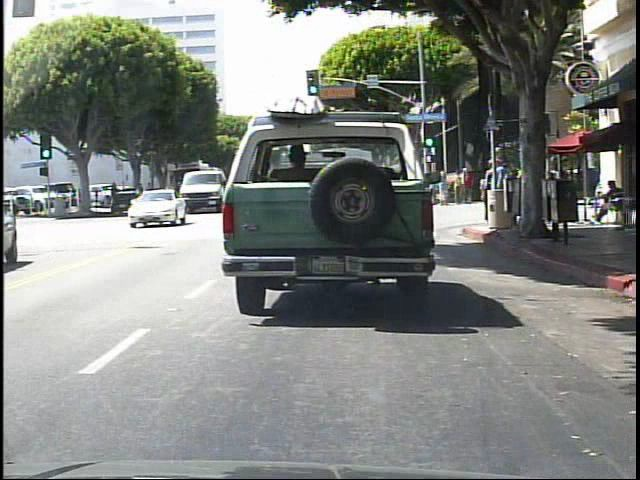person: (592, 176, 628, 224), (494, 158, 511, 224), (480, 160, 497, 222), (491, 163, 508, 221), (519, 164, 536, 217), (535, 163, 549, 206), (465, 165, 476, 205), (439, 171, 450, 206), (455, 170, 466, 204), (429, 178, 440, 208)
